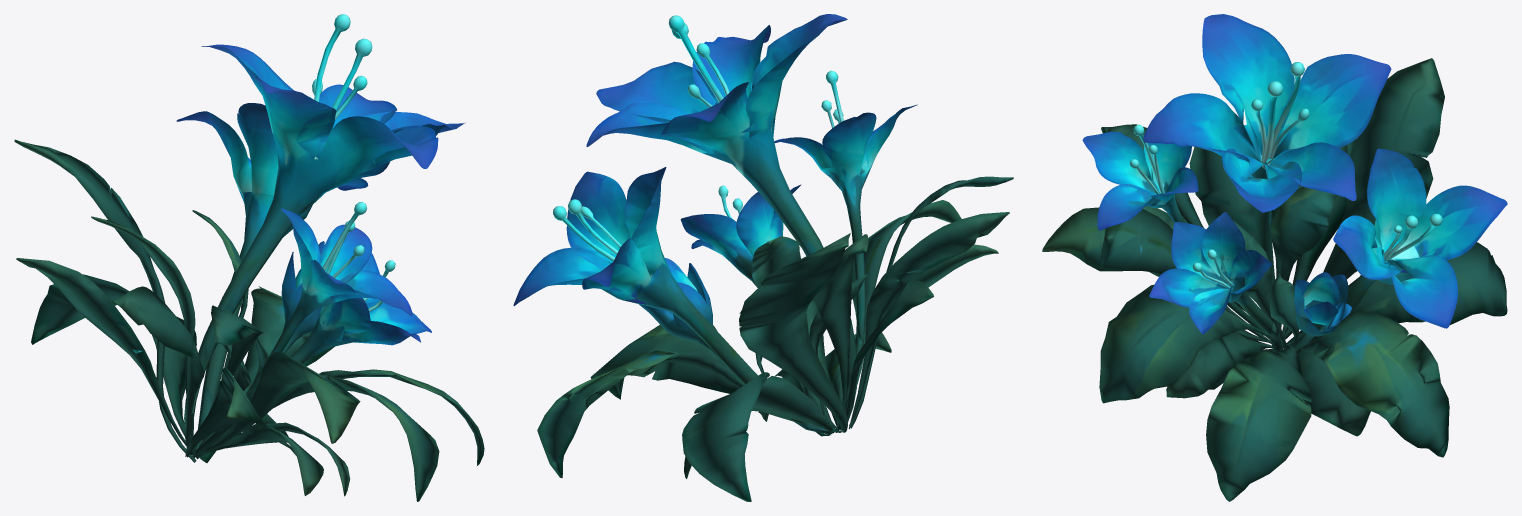
Rendered from GlowFlowers.fbx.
The picture shows the model from 3 angles, left to right: view 1: azimuth 30°, elevation 25°; view 2: azimuth 150°, elevation 25°; view 3: azimuth 270°, elevation 25°; orthographic projection. The views are drawn at different scales.
Visible parts, largest first — view 1: GlowFlowers; view 2: GlowFlowers; view 3: GlowFlowers.
Boxes of the visible parts, x1,y1,x2,y2 form: GlowFlowers: (14, 14, 484, 501); GlowFlowers: (513, 14, 1013, 501); GlowFlowers: (1042, 14, 1507, 501).
Size of the model in its own units: 1.42 by 1.51 by 1.6.
